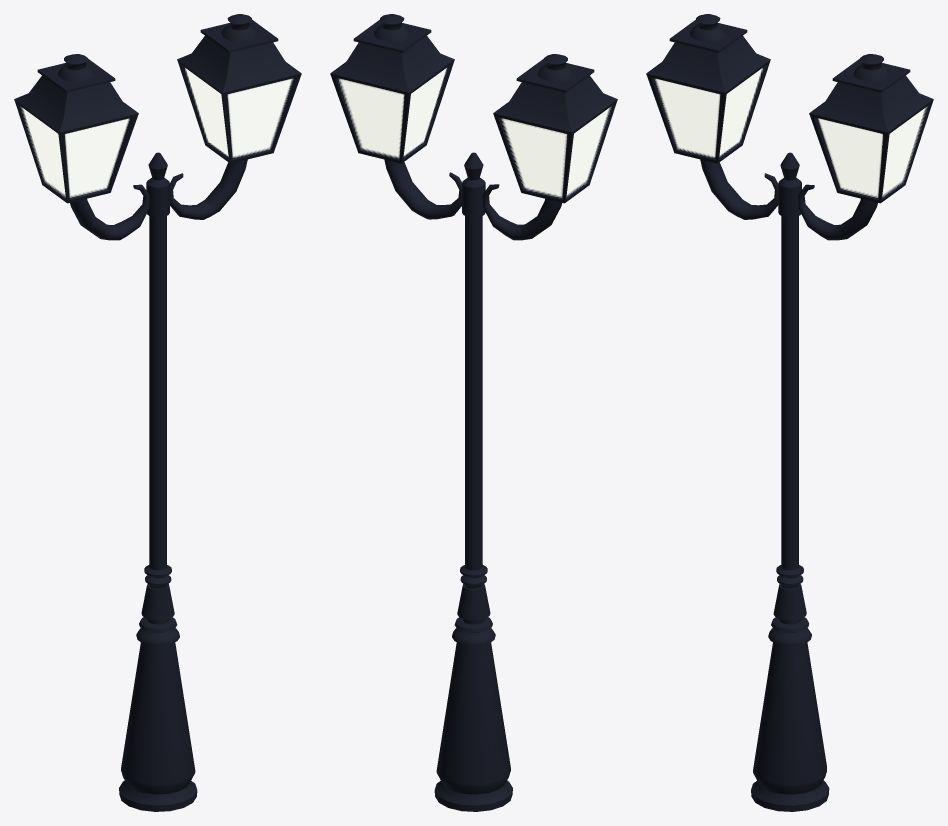
The model's file is LampadaireTuto.fbx.
3 views of the same model, side by side, from view 1: azimuth 30°, elevation 25°; view 2: azimuth 150°, elevation 25°; view 3: azimuth 330°, elevation 25° (orthographic).
Parts seen in each view (by area): view 1: Cube.004; view 2: Cube.004; view 3: Cube.004.
Boxes of the visible parts, x1=… form: Cube.004: x1=14, y1=14, x2=301, y2=811; Cube.004: x1=330, y1=14, x2=617, y2=811; Cube.004: x1=646, y1=14, x2=933, y2=811.
Bounding box in the file's own units: 204 × 611 × 66.61.
1 material, 1 textured.
